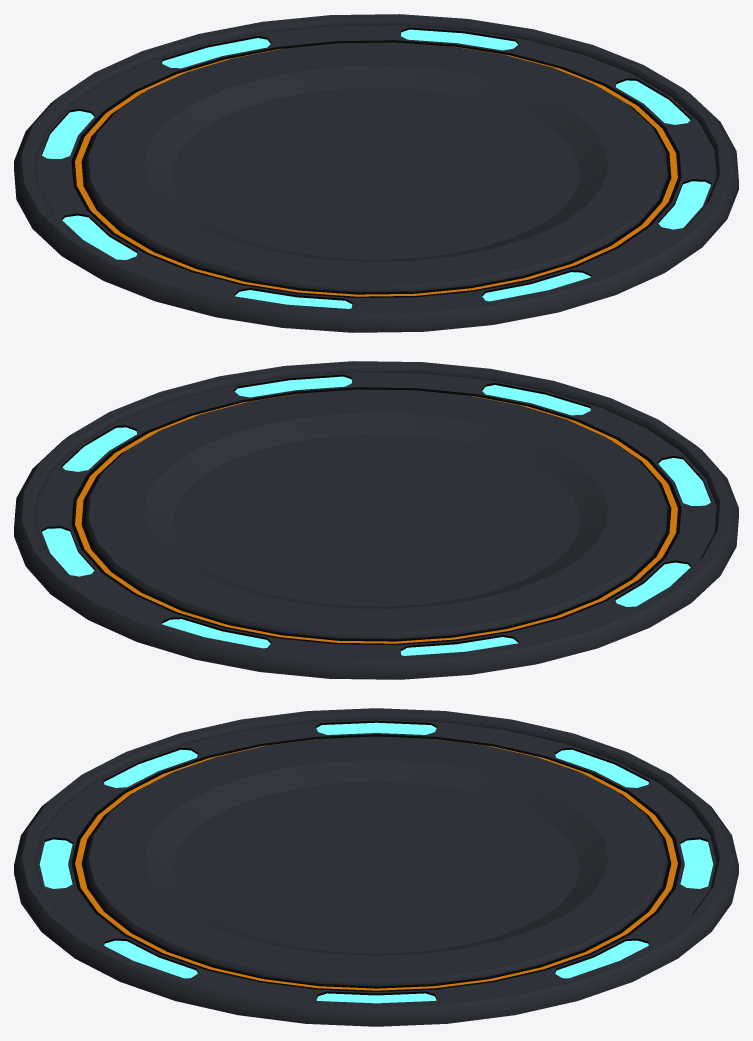
Rendered from SM_Floor_Marker_Circular.fbx.
3 renders of one model, top to bottom at view 1: azimuth 30°, elevation 25°; view 2: azimuth 150°, elevation 25°; view 3: azimuth 270°, elevation 25°, orthographic.
Parts seen in each view (by area): view 1: SM_Floor_Marker_Circular; view 2: SM_Floor_Marker_Circular; view 3: SM_Floor_Marker_Circular.
Boxes of the visible parts, <box> form: SM_Floor_Marker_Circular: <box>14,14,738,332</box>; SM_Floor_Marker_Circular: <box>14,361,738,679</box>; SM_Floor_Marker_Circular: <box>14,708,738,1026</box>.
Bounding box in the file's own units: 13.86 × 0.3282 × 13.86.
